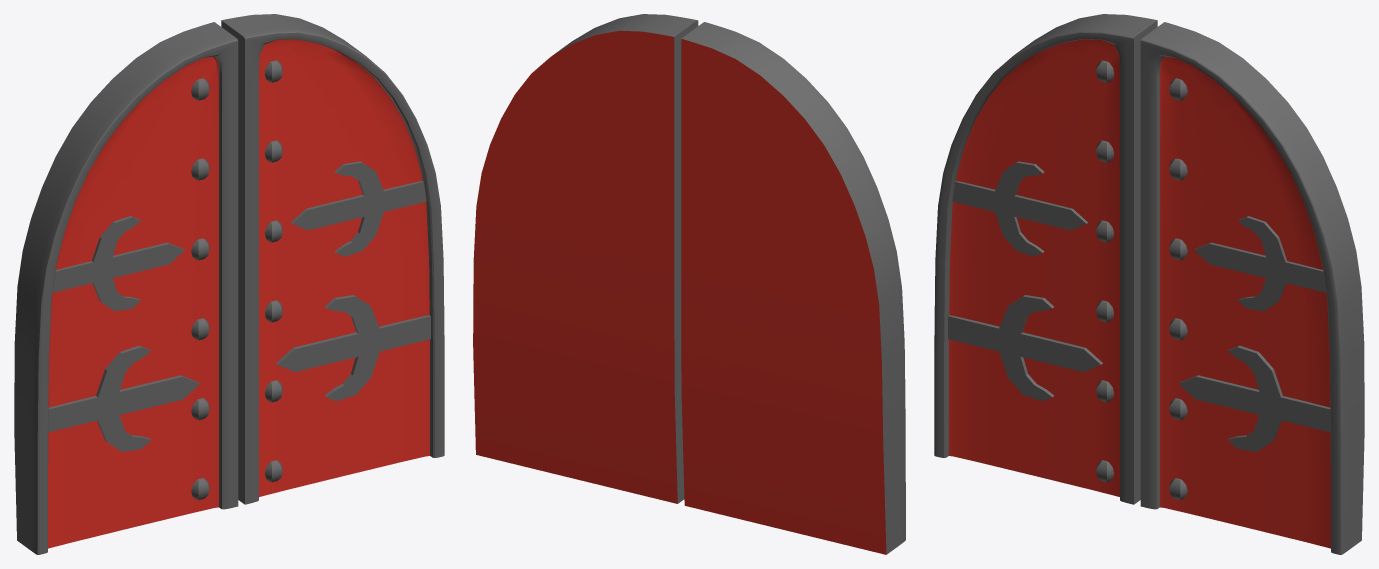
File: Porton.fbx
The picture shows the model from 3 angles, left to right: view 1: azimuth 30°, elevation 25°; view 2: azimuth 150°, elevation 25°; view 3: azimuth 330°, elevation 25°; orthographic projection.
Visible parts, largest first — view 1: Cube.002, Cube.001; view 2: Cube.002, Cube.001; view 3: Cube.001, Cube.002.
Boxes of the visible parts, x1,y1,x2,y2 form: Cube.002: (14, 22, 238, 554); Cube.001: (221, 14, 444, 504); Cube.002: (681, 22, 905, 554); Cube.001: (473, 14, 698, 503); Cube.001: (1140, 22, 1364, 554); Cube.002: (934, 14, 1157, 504).
Bounding box in the file's own units: 627 × 685 × 63.3.
